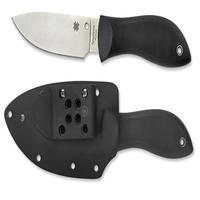knife: (5, 7, 195, 67)
